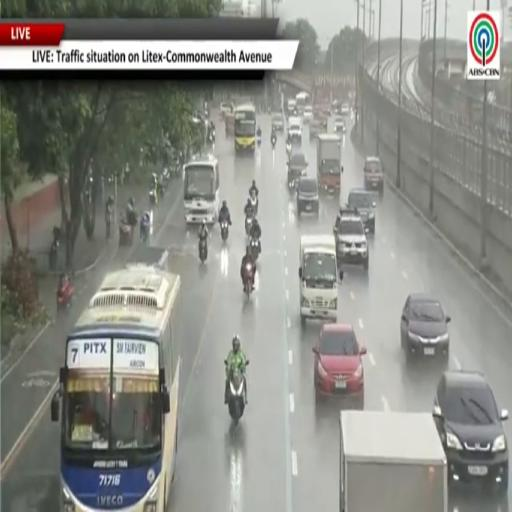bus: (51, 266, 182, 511), (184, 154, 220, 223), (235, 104, 256, 153), (296, 92, 311, 115)
car: (433, 371, 509, 495), (313, 324, 366, 408), (401, 293, 450, 361), (333, 208, 369, 270), (347, 188, 376, 234), (297, 176, 319, 216), (288, 150, 308, 188), (364, 156, 383, 195), (309, 118, 327, 140), (288, 117, 302, 142), (272, 112, 284, 132), (302, 104, 314, 124), (220, 103, 235, 118), (334, 117, 345, 133), (340, 103, 350, 117), (331, 101, 340, 115)
motorcycle: (228, 368, 245, 424), (49, 227, 61, 270), (57, 280, 73, 311), (119, 220, 133, 246), (244, 264, 254, 299), (49, 238, 59, 270), (249, 237, 260, 262), (199, 238, 207, 263), (220, 220, 229, 242), (250, 192, 258, 216), (141, 223, 149, 245), (149, 187, 158, 205), (245, 216, 253, 235), (209, 131, 215, 145), (271, 135, 276, 149), (286, 142, 291, 156), (257, 136, 261, 147)
truck: (340, 411, 447, 511), (317, 134, 342, 193), (126, 244, 170, 271)
